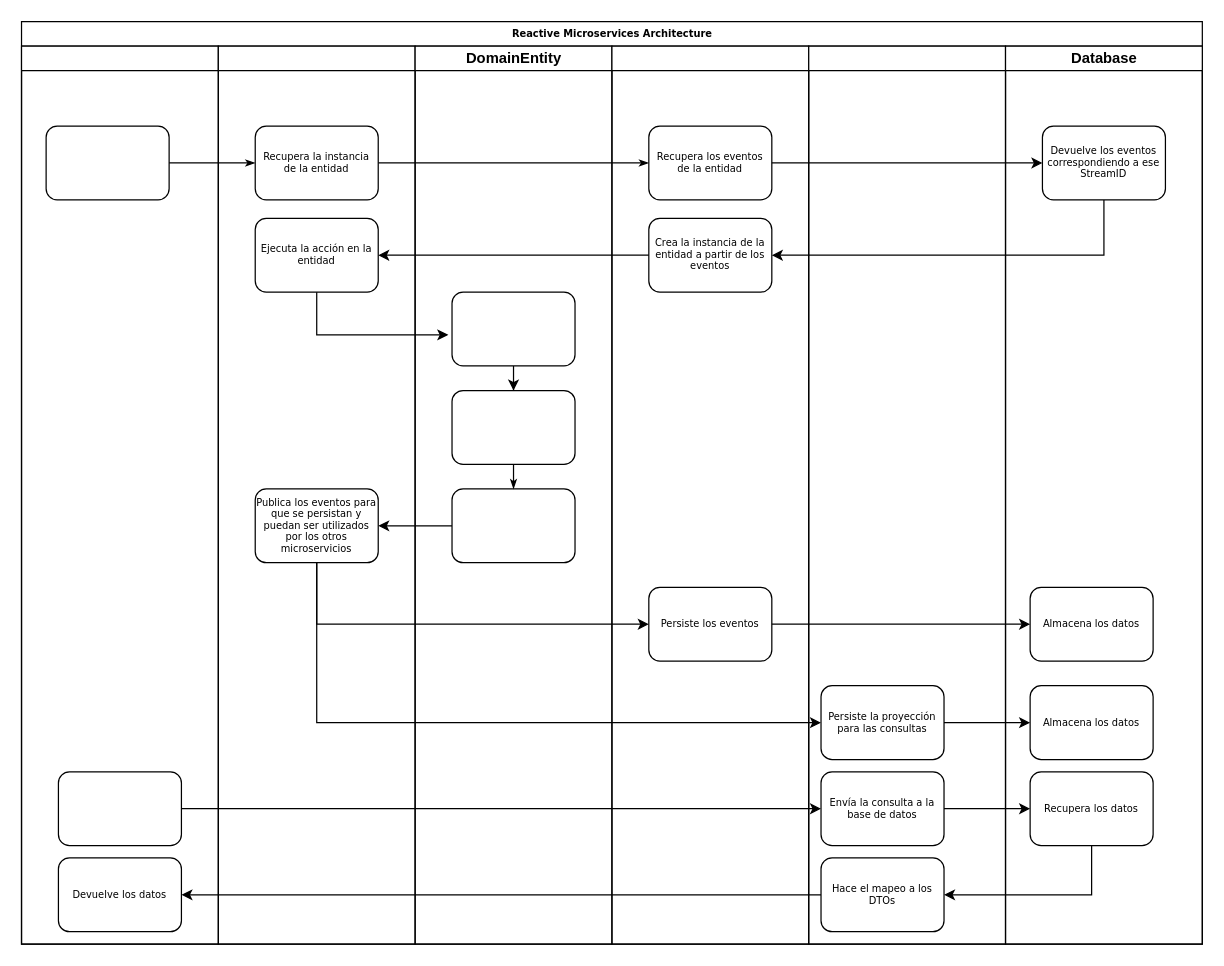
The diagram is 1224 pixels wide and 966 high, and some of its shapes have lost their labels. Here are the shapes that lost their labels. From the top down, the box of each, then its label:
(45, 125, 169, 200): Recibe la órden del cliente en forma de comando
(451, 291, 575, 366): Crea los eventos
(451, 389, 575, 464): Aplica los eventos a si mismo (o a una nueva entidad p.e. al clonar)
(20, 45, 218, 944): Controller
(217, 45, 415, 944): ComandHandler
(611, 45, 809, 944): EventRepository
(807, 45, 1006, 944): ProjectionRepository
(451, 488, 575, 563): Agrega los eventos a la lista de eventos sin confirmar
(57, 771, 181, 846): Realiza una consulta
